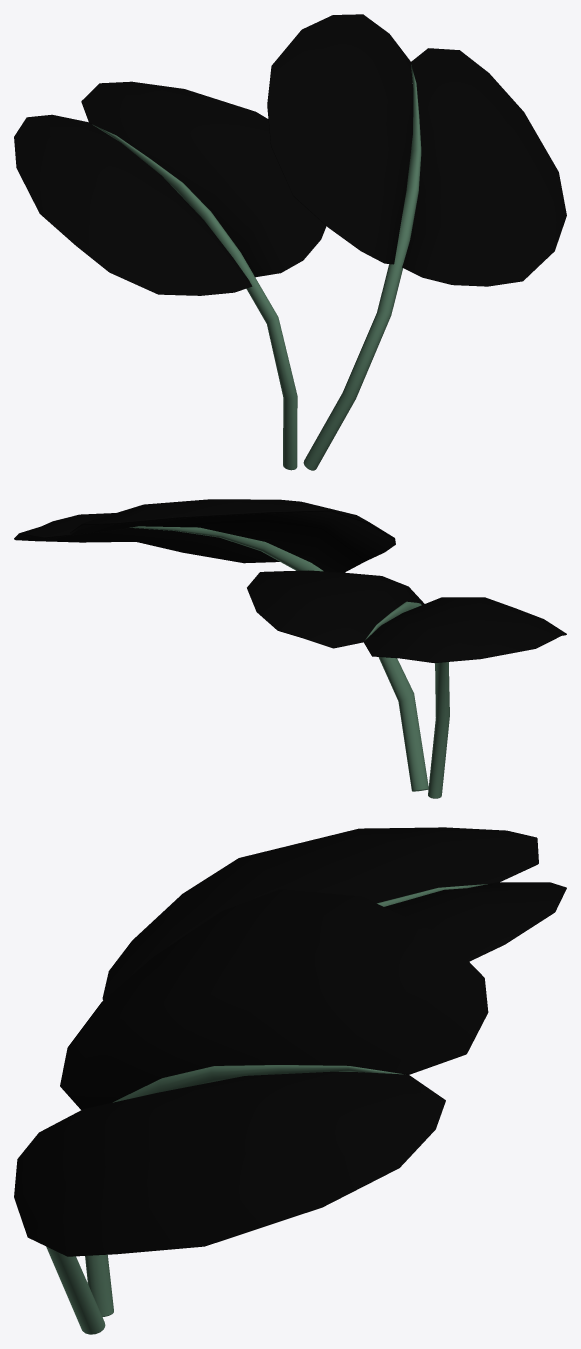
Rendered from Elephant_Leaves.fbx.
The picture shows the model from 3 angles, top to bottom: view 1: azimuth 30°, elevation 25°; view 2: azimuth 150°, elevation 25°; view 3: azimuth 270°, elevation 25°; orthographic projection. The views are drawn at different scales.
Visible parts, largest first — view 1: pPlane3 (×2), pCone1 (×2); view 2: pPlane3 (×2), pCone1 (×2); view 3: pPlane3 (×2), pCone1 (×2).
Boxes of the visible parts, left/top/right/bottom form: pPlane3 (×2): left=14, top=14, right=566, bottom=295; pCone1 (×2): left=92, top=64, right=421, bottom=470; pPlane3 (×2): left=14, top=499, right=566, bottom=663; pCone1 (×2): left=130, top=526, right=449, bottom=798; pPlane3 (×2): left=14, top=827, right=566, bottom=1256; pCone1 (×2): left=46, top=884, right=487, bottom=1334.
Size of the model in its own units: 43.5 by 28.04 by 29.43.
